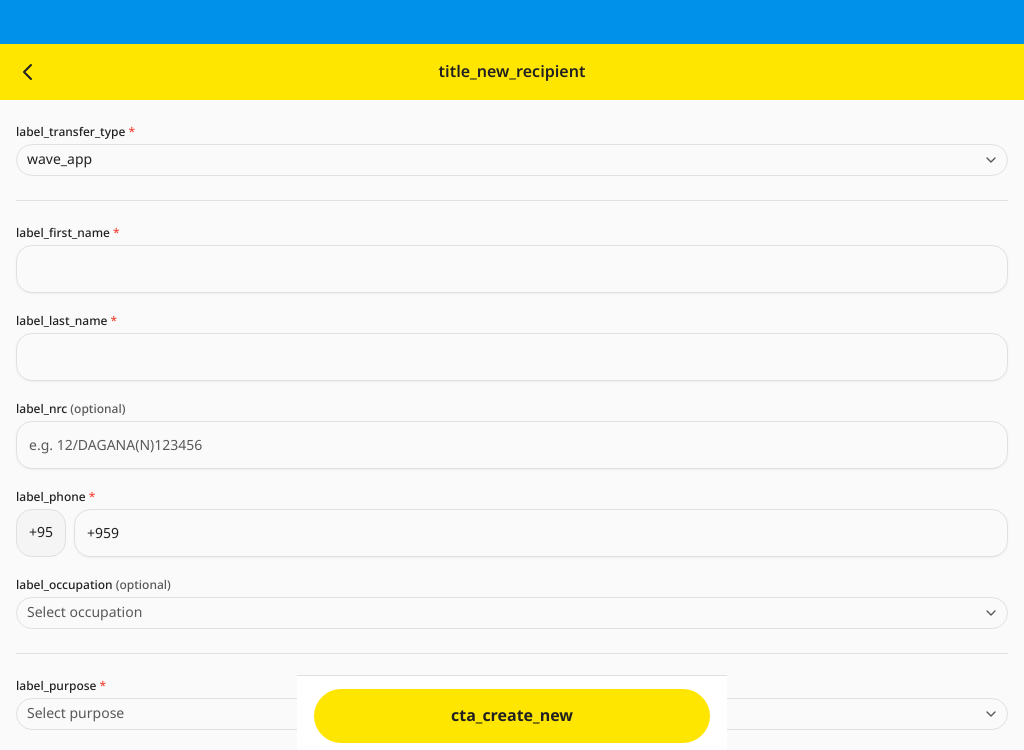
Test: NewRecipientPage › shows bank fields when bank_transfer type is selected
The width and height of the screenshot is (1024, 750).
Expected: the field labelled "label_bank_name" is not shown
Expected: the field labelled "label_account_no" is not shown
Find the transfer_type select trigger and click it to open
Click the dropdown named "label_transfer_type": coordinates (60, 160) [16,144,1008,176]
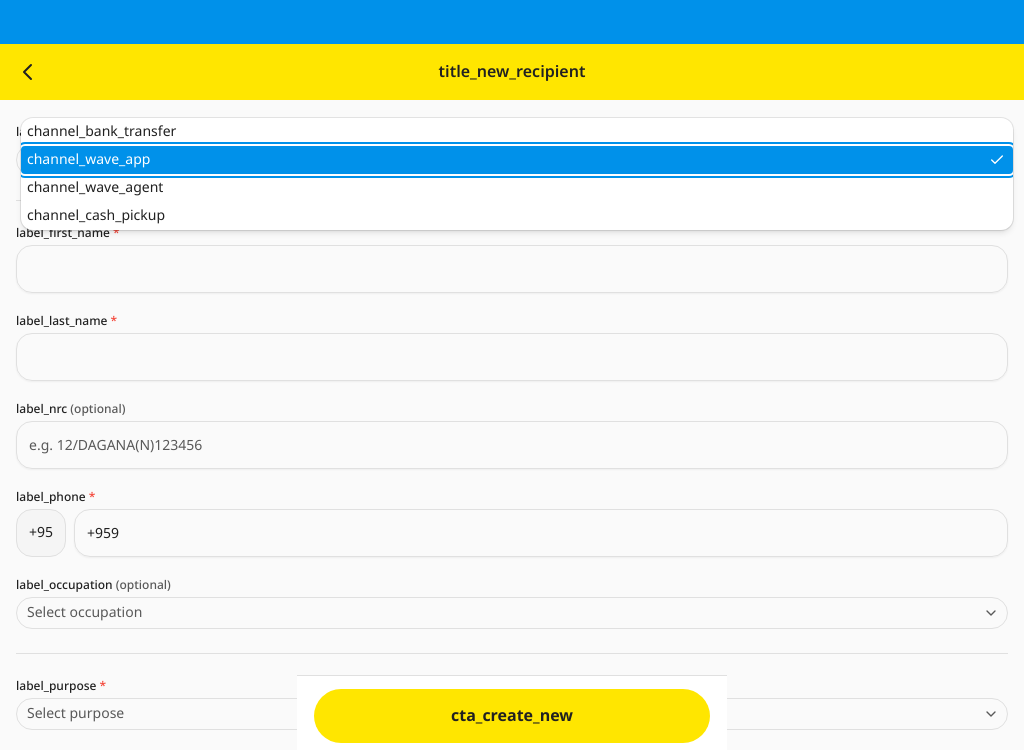
Now the option "channel_bank_transfer" is shown
Click the option "channel_bank_transfer": coordinates (102, 132) [27,121,176,142]
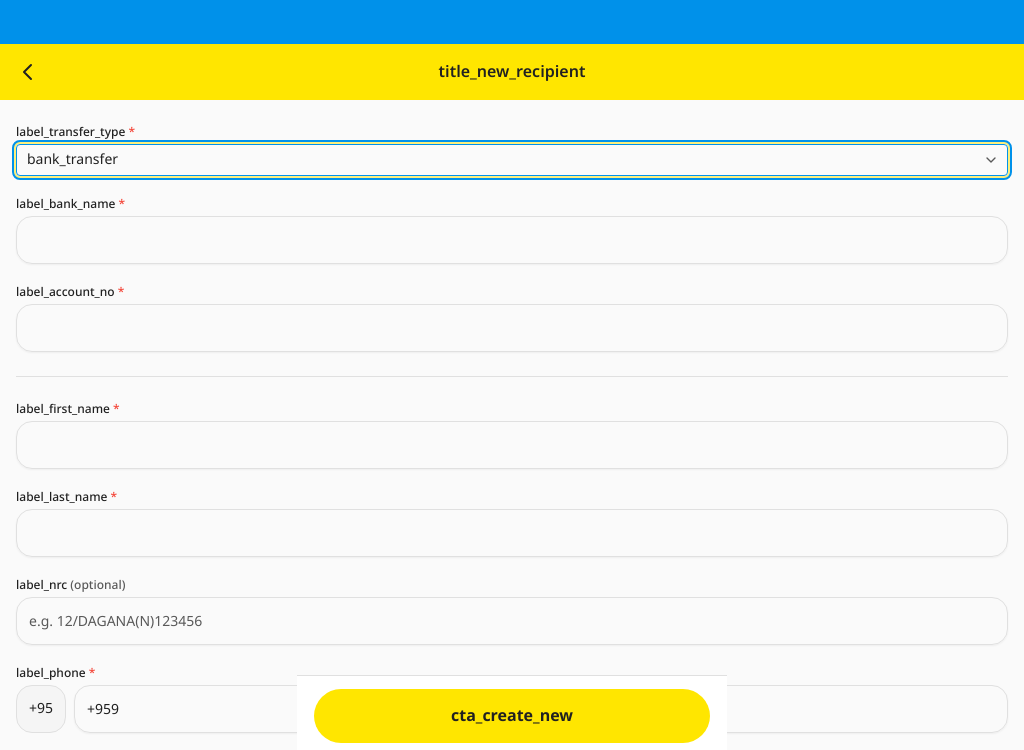
Now the field labelled "label_bank_name *" is shown, box [16,216,1008,264]
Now the field labelled "label_account_no *" is shown, box [16,304,1008,352]
